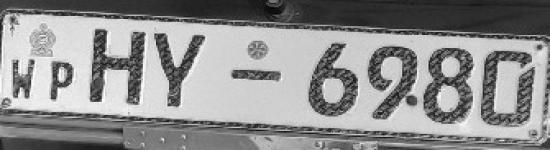-: (228, 67, 286, 84)
0: (483, 50, 536, 127)
6: (302, 43, 359, 116)
8: (424, 49, 474, 125)
9: (368, 48, 420, 123)
H: (88, 28, 146, 109)
P: (47, 56, 78, 105)
W: (8, 54, 40, 101)
Y: (150, 28, 211, 110)
